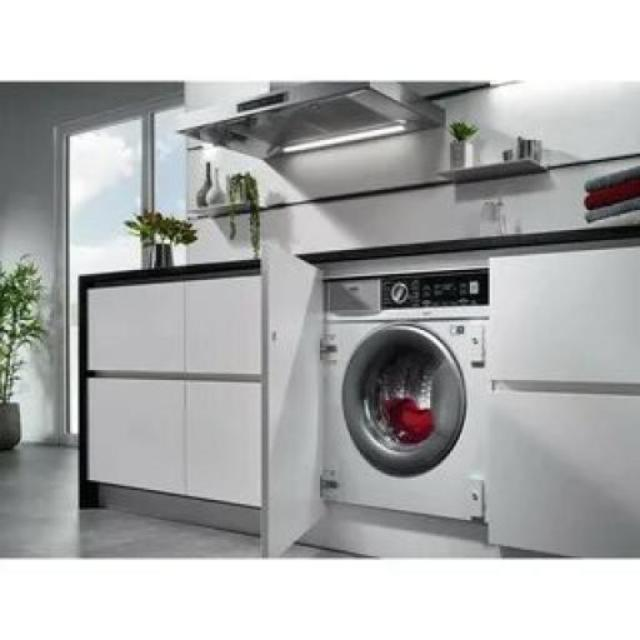Washing-Machine: (322, 266, 494, 538)
